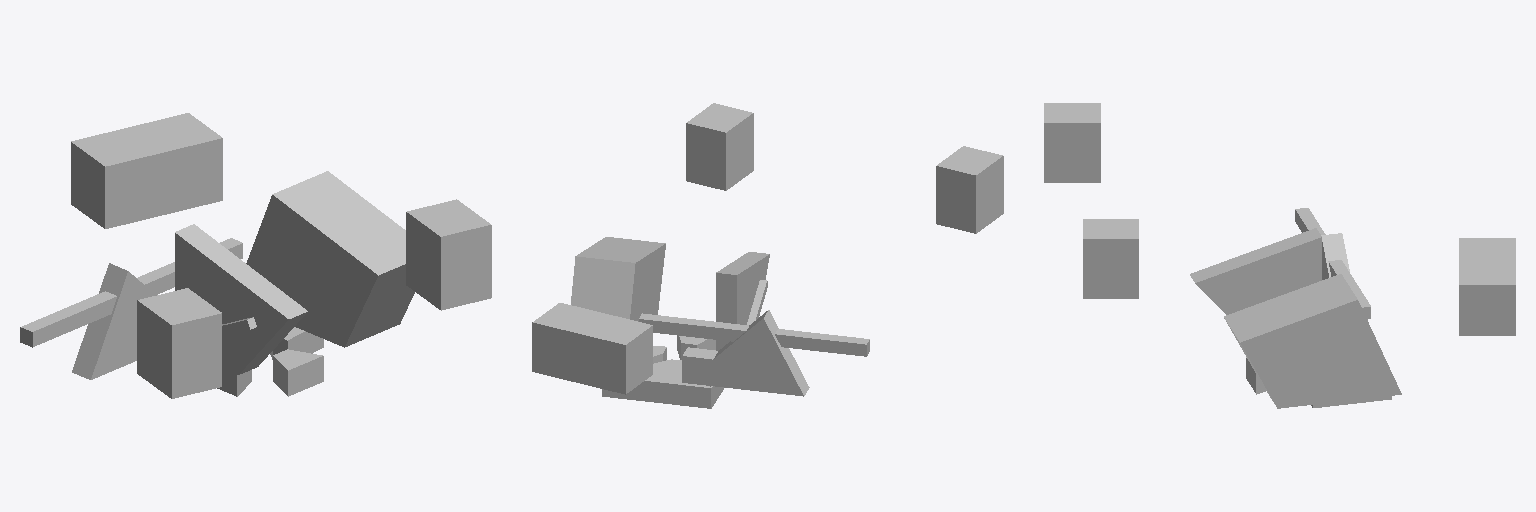
URDF robot description (c4):
<?xml version="1.0" encoding="utf-8"?>
<robot name="c4">
  <link name="gripper_base">
    <visual>
      <geometry>
        <mesh filename="package://c4/meshes/visual/L0_visual_0.stl" scale="0.001 0.001 0.001"/>
      </geometry>
      <material name="Material">
        <color rgba="0.8 0.8 0.8 1.0"/>
      </material>
    </visual>
    <visual>
      <geometry>
        <mesh filename="package://c4/meshes/visual/L0_visual_1.stl" scale="0.001 0.001 0.001"/>
      </geometry>
      <material name="Material">
        <color rgba="0.8 0.8 0.8 1.0"/>
      </material>
    </visual>
    <visual>
      <geometry>
        <mesh filename="package://c4/meshes/visual/L0_visual_2.stl" scale="0.001 0.001 0.001"/>
      </geometry>
      <material name="Material">
        <color rgba="0.8 0.8 0.8 1.0"/>
      </material>
    </visual>
    <visual>
      <geometry>
        <mesh filename="package://c4/meshes/visual/L0_visual_3.stl" scale="0.001 0.001 0.001"/>
      </geometry>
      <material name="Material">
        <color rgba="0.8 0.8 0.8 1.0"/>
      </material>
    </visual>
    <visual>
      <geometry>
        <mesh filename="package://c4/meshes/visual/L0_visual_4.stl" scale="0.001 0.001 0.001"/>
      </geometry>
      <material name="Material">
        <color rgba="0.8 0.8 0.8 1.0"/>
      </material>
    </visual>
    <visual>
      <geometry>
        <mesh filename="package://c4/meshes/visual/L0_visual_5.stl" scale="0.001 0.001 0.001"/>
      </geometry>
      <material name="Material">
        <color rgba="0.8 0.8 0.8 1.0"/>
      </material>
    </visual>
    <visual>
      <geometry>
        <mesh filename="package://c4/meshes/visual/L0_visual_6.stl" scale="0.001 0.001 0.001"/>
      </geometry>
      <material name="Material">
        <color rgba="0.8 0.8 0.8 1.0"/>
      </material>
    </visual>
    <visual>
      <geometry>
        <mesh filename="package://c4/meshes/visual/L0_visual_7.stl" scale="0.001 0.001 0.001"/>
      </geometry>
      <material name="Material">
        <color rgba="0.8 0.8 0.8 1.0"/>
      </material>
    </visual>
    <visual>
      <geometry>
        <mesh filename="package://c4/meshes/visual/L0_visual_8.stl" scale="0.001 0.001 0.001"/>
      </geometry>
      <material name="Material">
        <color rgba="0.8 0.8 0.8 1.0"/>
      </material>
    </visual>
    <visual>
      <geometry>
        <mesh filename="package://c4/meshes/visual/L0_visual_9.stl" scale="0.001 0.001 0.001"/>
      </geometry>
      <material name="Material">
        <color rgba="0.8 0.8 0.8 1.0"/>
      </material>
    </visual>
    <visual>
      <geometry>
        <mesh filename="package://c4/meshes/visual/L0_visual_10.stl" scale="0.001 0.001 0.001"/>
      </geometry>
      <material name="Material">
        <color rgba="0.8 0.8 0.8 1.0"/>
      </material>
    </visual>
    <visual>
      <geometry>
        <mesh filename="package://c4/meshes/visual/L0_visual_11.stl" scale="0.001 0.001 0.001"/>
      </geometry>
      <material name="Material">
        <color rgba="0.8 0.8 0.8 1.0"/>
      </material>
    </visual>
    <visual>
      <geometry>
        <mesh filename="package://c4/meshes/visual/L0_visual_12.stl" scale="0.001 0.001 0.001"/>
      </geometry>
      <material name="Material">
        <color rgba="0.8 0.8 0.8 1.0"/>
      </material>
    </visual>
    <visual>
      <geometry>
        <mesh filename="package://c4/meshes/visual/L0_visual_13.stl" scale="0.001 0.001 0.001"/>
      </geometry>
      <material name="Material">
        <color rgba="0.8 0.8 0.8 1.0"/>
      </material>
    </visual>
    <visual>
      <geometry>
        <mesh filename="package://c4/meshes/visual/L0_visual_14.stl" scale="0.001 0.001 0.001"/>
      </geometry>
      <material name="Material">
        <color rgba="0.8 0.8 0.8 1.0"/>
      </material>
    </visual>
    <visual>
      <geometry>
        <mesh filename="package://c4/meshes/visual/L0_visual_15.stl" scale="0.001 0.001 0.001"/>
      </geometry>
      <material name="Material">
        <color rgba="0.8 0.8 0.8 1.0"/>
      </material>
    </visual>
    <collision>
      <geometry>
        <mesh filename="package://c4/meshes/collision/L0_collision_0.stl" scale="0.001 0.001 0.001"/>
      </geometry>
    </collision>
    <collision>
      <geometry>
        <mesh filename="package://c4/meshes/collision/L0_collision_1.stl" scale="0.001 0.001 0.001"/>
      </geometry>
    </collision>
    <collision>
      <geometry>
        <mesh filename="package://c4/meshes/collision/L0_collision_2.stl" scale="0.001 0.001 0.001"/>
      </geometry>
    </collision>
    <collision>
      <geometry>
        <mesh filename="package://c4/meshes/collision/L0_collision_3.stl" scale="0.001 0.001 0.001"/>
      </geometry>
    </collision>
    <collision>
      <geometry>
        <mesh filename="package://c4/meshes/collision/L0_collision_4.stl" scale="0.001 0.001 0.001"/>
      </geometry>
    </collision>
    <collision>
      <geometry>
        <mesh filename="package://c4/meshes/collision/L0_collision_5.stl" scale="0.001 0.001 0.001"/>
      </geometry>
    </collision>
    <collision>
      <geometry>
        <mesh filename="package://c4/meshes/collision/L0_collision_6.stl" scale="0.001 0.001 0.001"/>
      </geometry>
    </collision>
    <collision>
      <geometry>
        <mesh filename="package://c4/meshes/collision/L0_collision_7.stl" scale="0.001 0.001 0.001"/>
      </geometry>
    </collision>
    <collision>
      <geometry>
        <mesh filename="package://c4/meshes/collision/L0_collision_8.stl" scale="0.001 0.001 0.001"/>
      </geometry>
    </collision>
    <collision>
      <geometry>
        <mesh filename="package://c4/meshes/collision/L0_collision_9.stl" scale="0.001 0.001 0.001"/>
      </geometry>
    </collision>
    <collision>
      <geometry>
        <mesh filename="package://c4/meshes/collision/L0_collision_10.stl" scale="0.001 0.001 0.001"/>
      </geometry>
    </collision>
    <collision>
      <geometry>
        <mesh filename="package://c4/meshes/collision/L0_collision_11.stl" scale="0.001 0.001 0.001"/>
      </geometry>
    </collision>
    <collision>
      <geometry>
        <mesh filename="package://c4/meshes/collision/L0_collision_12.stl" scale="0.001 0.001 0.001"/>
      </geometry>
    </collision>
    <collision>
      <geometry>
        <mesh filename="package://c4/meshes/collision/L0_collision_13.stl" scale="0.001 0.001 0.001"/>
      </geometry>
    </collision>
    <collision>
      <geometry>
        <mesh filename="package://c4/meshes/collision/L0_collision_14.stl" scale="0.001 0.001 0.001"/>
      </geometry>
    </collision>
    <collision>
      <geometry>
        <mesh filename="package://c4/meshes/collision/L0_collision_15.stl" scale="0.001 0.001 0.001"/>
      </geometry>
    </collision>
  </link>
  <link name="gripper_jaw">
    <visual>
      <geometry>
        <mesh filename="package://c4/meshes/visual/L1_visual_0.stl" scale="0.001 0.001 0.001"/>
      </geometry>
      <material name="Material">
        <color rgba="0.8 0.8 0.8 1.0"/>
      </material>
    </visual>
    <visual>
      <geometry>
        <mesh filename="package://c4/meshes/visual/L1_visual_1.stl" scale="0.001 0.001 0.001"/>
      </geometry>
      <material name="Material">
        <color rgba="0.8 0.8 0.8 1.0"/>
      </material>
    </visual>
    <visual>
      <geometry>
        <mesh filename="package://c4/meshes/visual/L1_visual_2.stl" scale="0.001 0.001 0.001"/>
      </geometry>
      <material name="Material">
        <color rgba="0.8 0.8 0.8 1.0"/>
      </material>
    </visual>
    <collision>
      <geometry>
        <mesh filename="package://c4/meshes/collision/L1_collision_0.stl" scale="0.001 0.001 0.001"/>
      </geometry>
    </collision>
    <collision>
      <geometry>
        <mesh filename="package://c4/meshes/collision/L1_collision_1.stl" scale="0.001 0.001 0.001"/>
      </geometry>
    </collision>
    <collision>
      <geometry>
        <mesh filename="package://c4/meshes/collision/L1_collision_2.stl" scale="0.001 0.001 0.001"/>
      </geometry>
    </collision>
  </link>
  <link name="clamp_jaw">
    <visual>
      <geometry>
        <mesh filename="package://c4/meshes/visual/L2_visual_0.stl" scale="0.001 0.001 0.001"/>
      </geometry>
      <material name="Material">
        <color rgba="0.8 0.8 0.8 1.0"/>
      </material>
    </visual>
    <visual>
      <geometry>
        <mesh filename="package://c4/meshes/visual/L2_visual_1.stl" scale="0.001 0.001 0.001"/>
      </geometry>
      <material name="Material">
        <color rgba="0.8 0.8 0.8 1.0"/>
      </material>
    </visual>
    <visual>
      <geometry>
        <mesh filename="package://c4/meshes/visual/L2_visual_2.stl" scale="0.001 0.001 0.001"/>
      </geometry>
      <material name="Material">
        <color rgba="0.8 0.8 0.8 1.0"/>
      </material>
    </visual>
    <collision>
      <geometry>
        <mesh filename="package://c4/meshes/collision/L2_collision_0.stl" scale="0.001 0.001 0.001"/>
      </geometry>
    </collision>
    <collision>
      <geometry>
        <mesh filename="package://c4/meshes/collision/L2_collision_1.stl" scale="0.001 0.001 0.001"/>
      </geometry>
    </collision>
    <collision>
      <geometry>
        <mesh filename="package://c4/meshes/collision/L2_collision_2.stl" scale="0.001 0.001 0.001"/>
      </geometry>
    </collision>
  </link>
  <joint name="joint_gripper_jaw" type="prismatic">
    <parent link="gripper_base"/>
    <child link="gripper_jaw"/>
    <axis xyz="-0.965713839256 -0.259608899444 -3.67247898758e-13"/>
    <limit effort="0.0" upper="0.04" velocity="0.0"/>
    <origin rpy="0.0 0.0 0.0" xyz="0.0 0.0 0.0"/>
  </joint>
  <joint name="joint_clamp_jaw" type="prismatic">
    <parent link="gripper_base"/>
    <child link="clamp_jaw"/>
    <axis xyz="-0.965713839256 -0.259608899444 -3.67247898758e-13"/>
    <limit effort="0.0" lower="0.1" upper="0.24" velocity="0.0"/>
    <origin rpy="0.0 0.0 0.0" xyz="0.0 0.0 0.0"/>
  </joint>
</robot>

--- Render facts (derived) ---
The picture shows the robot from 3 angles, left to right: view 1: azimuth 30°, elevation 25°; view 2: azimuth 150°, elevation 25°; view 3: azimuth 270°, elevation 25°; orthographic projection.
Model c4 with 3 links and 2 joints (2 prismatic), rooted at gripper_base, posed joints at zero except 1 at the middle of their limits (joint_clamp_jaw = 0.17).
Visible links, largest first — view 1: gripper_base, gripper_jaw, clamp_jaw; view 2: gripper_base, clamp_jaw, gripper_jaw; view 3: gripper_base, gripper_jaw, clamp_jaw.
Boxes of the visible links, x1=… form: gripper_base: x1=20, y1=113, x2=414, y2=396; gripper_jaw: x1=175, y1=199, x2=491, y2=374; clamp_jaw: x1=72, y1=263, x2=221, y2=398; gripper_base: x1=532, y1=237, x2=869, y2=408; clamp_jaw: x1=682, y1=146, x2=1003, y2=396; gripper_jaw: x1=686, y1=103, x2=769, y2=350; gripper_base: x1=1224, y1=208, x2=1515, y2=408; gripper_jaw: x1=1083, y1=219, x2=1321, y2=314; clamp_jaw: x1=1044, y1=103, x2=1349, y2=279.
Size in the robot's own frame: 0.4151 by 0.5441 by 0.2286 metres.
Meshes: 22 distinct files referenced, 15 mesh visuals loaded (15 binary STL); not drawn: 7 (reference not matched to a file when rendering).